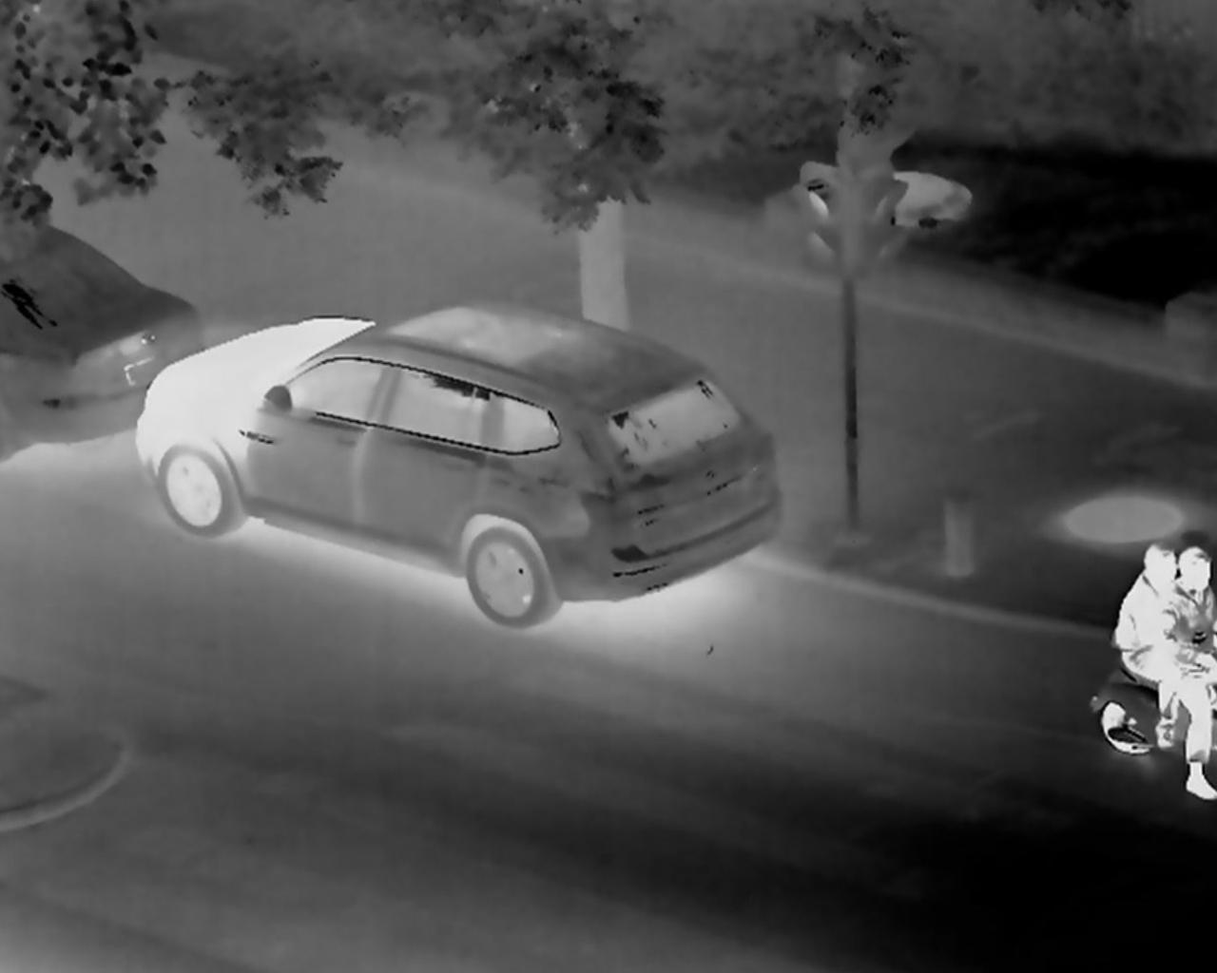person: (1149, 545, 1217, 798), (1113, 542, 1186, 751)
